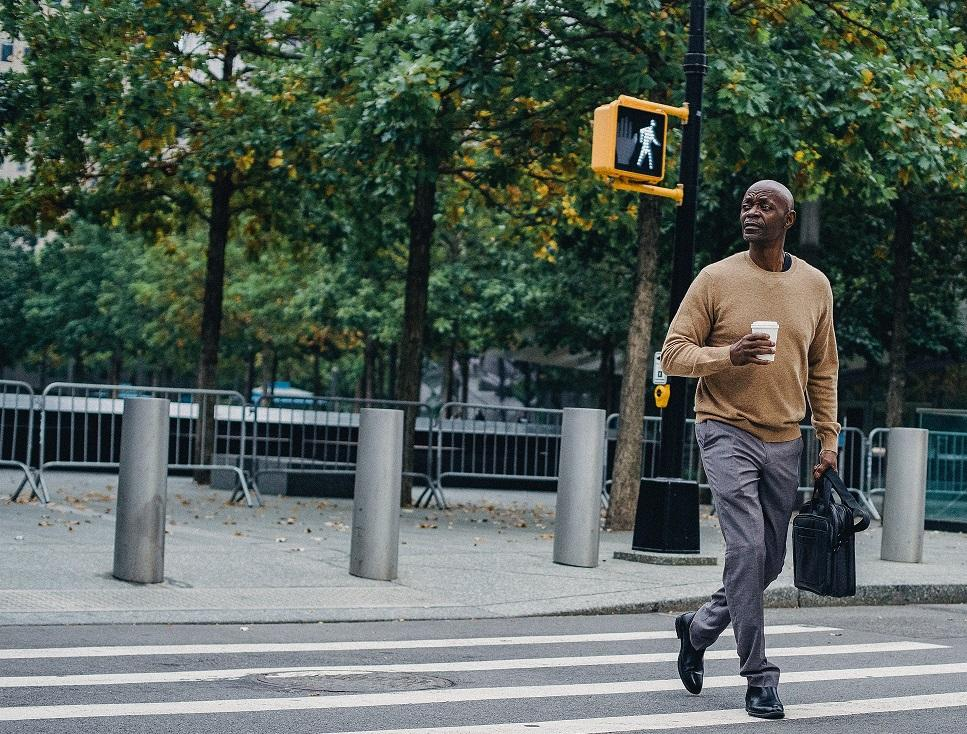pedestrian: (653, 161, 886, 732)
traffic light: (576, 75, 733, 230)
